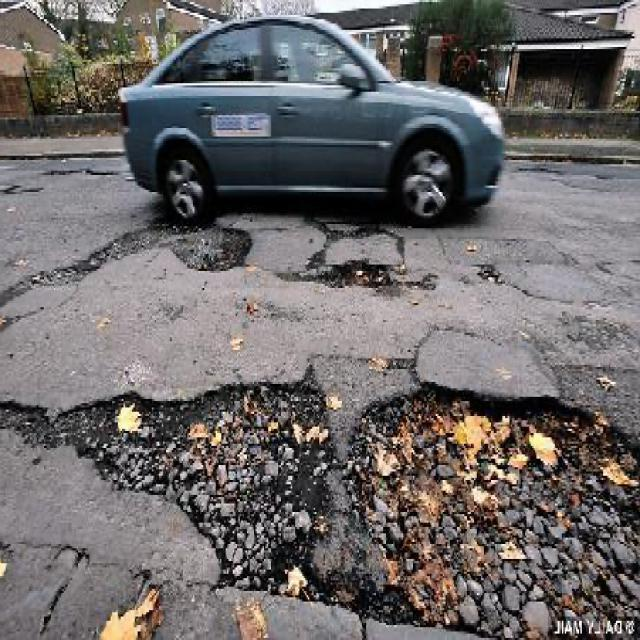pothole: (54, 365, 639, 640), (172, 222, 255, 276), (311, 258, 396, 292)
